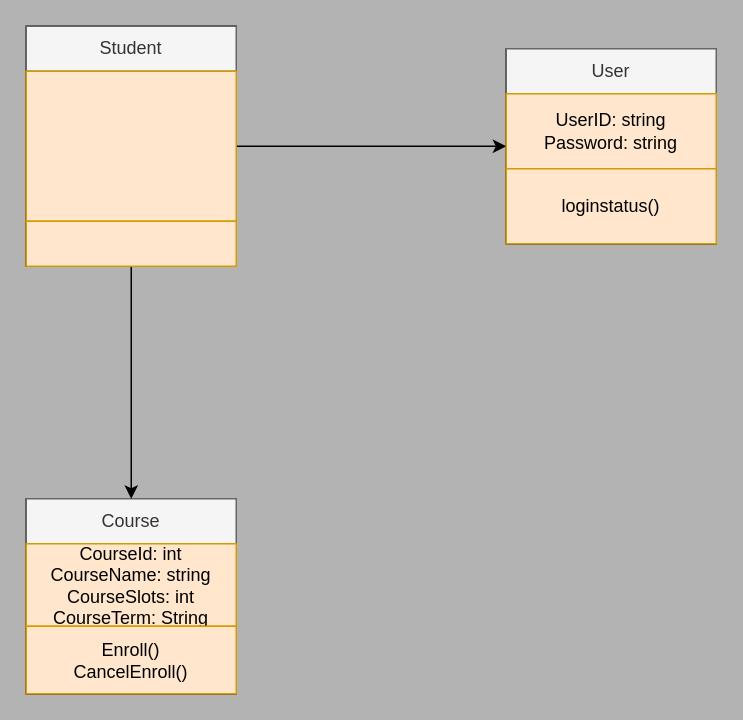
Image size: 743x720. Some labels were removed from this diagram. Here are the shapes that lost their labels. From the top down, the centre of each, then its label:
pixel 130 145: StudentID: int name: string email: string Phone: string address: string
pixel 130 243: Login() Register()
